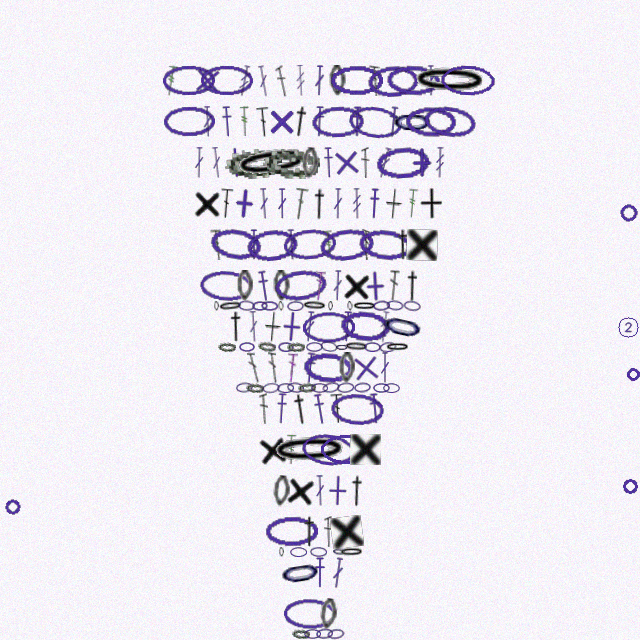chain: (232, 142, 313, 183), (270, 433, 349, 467), (411, 64, 489, 97), (208, 225, 264, 264), (347, 103, 403, 141), (422, 103, 478, 141), (224, 145, 283, 181), (300, 431, 357, 468), (318, 226, 375, 263), (273, 267, 329, 304), (357, 227, 413, 263), (245, 227, 300, 263), (282, 227, 337, 262), (375, 145, 430, 180), (379, 307, 427, 346), (199, 269, 254, 303), (339, 309, 392, 344), (330, 392, 384, 426), (263, 147, 320, 179), (440, 64, 495, 97), (302, 351, 355, 385), (367, 64, 420, 98), (386, 64, 440, 97), (311, 105, 364, 138), (277, 554, 324, 591), (283, 598, 336, 630), (302, 311, 355, 343), (320, 434, 374, 465), (162, 65, 216, 96), (200, 65, 254, 96), (405, 106, 457, 138), (265, 516, 318, 547), (330, 65, 383, 96), (163, 106, 215, 137), (391, 106, 434, 137), (319, 598, 338, 630), (272, 475, 291, 507), (301, 147, 319, 179), (273, 270, 290, 301), (329, 65, 346, 96), (339, 352, 355, 383), (237, 270, 253, 301), (218, 300, 243, 312), (344, 341, 369, 352), (302, 300, 327, 311), (339, 547, 364, 557), (385, 342, 410, 352), (352, 301, 377, 311), (322, 381, 340, 394), (320, 340, 338, 353), (327, 628, 345, 640), (262, 382, 280, 394), (379, 341, 397, 353), (403, 300, 421, 312), (298, 382, 316, 393), (258, 341, 276, 352), (386, 300, 404, 311), (316, 628, 333, 639), (236, 382, 253, 393), (287, 382, 304, 393), (337, 382, 354, 393), (354, 382, 371, 393), (238, 300, 255, 311), (373, 300, 390, 311), (292, 629, 310, 639), (246, 383, 264, 393), (218, 342, 236, 352), (287, 342, 305, 352), (304, 629, 321, 639), (290, 547, 307, 557), (310, 547, 327, 557), (277, 383, 294, 393), (311, 383, 328, 393), (373, 383, 390, 393), (383, 383, 400, 393), (306, 342, 323, 352), (364, 342, 381, 352), (261, 301, 278, 311), (287, 301, 304, 311), (239, 342, 255, 352), (278, 342, 294, 352), (252, 301, 268, 311), (332, 546, 346, 557), (335, 342, 349, 352), (278, 301, 284, 311), (347, 301, 353, 311), (279, 547, 284, 557), (214, 301, 219, 311), (328, 301, 333, 311)
double: (292, 188, 309, 220), (376, 147, 393, 179), (256, 106, 271, 138), (256, 65, 271, 97), (330, 393, 345, 424), (219, 188, 234, 219), (331, 557, 345, 589), (275, 65, 289, 97), (247, 352, 260, 383), (303, 311, 316, 342), (313, 270, 326, 301), (210, 229, 223, 260), (210, 147, 223, 178), (286, 352, 298, 383), (388, 270, 400, 301), (258, 188, 270, 219), (369, 65, 381, 96), (248, 311, 259, 342), (332, 270, 343, 301), (286, 229, 297, 260), (202, 106, 213, 137), (314, 65, 325, 96), (315, 475, 325, 506), (259, 393, 269, 424), (268, 352, 278, 383), (380, 352, 390, 383), (249, 229, 259, 260), (277, 188, 287, 219), (333, 188, 343, 219), (194, 147, 204, 178), (426, 65, 436, 96), (324, 516, 333, 547), (361, 147, 370, 178), (362, 229, 370, 260)
half_double: (289, 105, 312, 138), (290, 393, 311, 425), (347, 475, 367, 507), (403, 270, 422, 302), (310, 188, 329, 220), (300, 516, 319, 547), (227, 311, 245, 342), (394, 229, 412, 260), (312, 393, 328, 425), (256, 270, 272, 302), (386, 106, 401, 138), (303, 352, 317, 384), (368, 393, 382, 424), (340, 311, 354, 342), (220, 106, 234, 137), (275, 393, 288, 424), (368, 188, 381, 219), (322, 147, 335, 178), (313, 106, 326, 137), (314, 557, 326, 588), (351, 106, 363, 137)
noise: (616, 315, 640, 339), (617, 201, 640, 224), (3, 497, 23, 517), (620, 476, 640, 496), (625, 366, 640, 383)
single: (330, 515, 364, 549), (349, 351, 383, 385), (275, 310, 308, 343), (228, 187, 261, 220), (219, 146, 252, 179), (330, 146, 363, 179), (191, 64, 224, 97), (285, 474, 317, 508), (257, 433, 289, 467), (359, 270, 391, 302), (406, 229, 438, 261), (322, 475, 353, 506), (350, 434, 381, 465), (406, 147, 437, 178), (266, 106, 297, 137), (342, 270, 372, 302), (193, 188, 222, 219), (419, 188, 443, 219), (264, 311, 282, 343), (385, 188, 403, 220)
treble: (237, 65, 252, 97), (322, 229, 336, 261), (164, 65, 178, 97), (378, 311, 391, 343), (406, 188, 419, 219), (286, 434, 297, 465), (239, 106, 250, 137), (295, 65, 306, 96), (352, 188, 362, 219), (435, 147, 445, 178)
